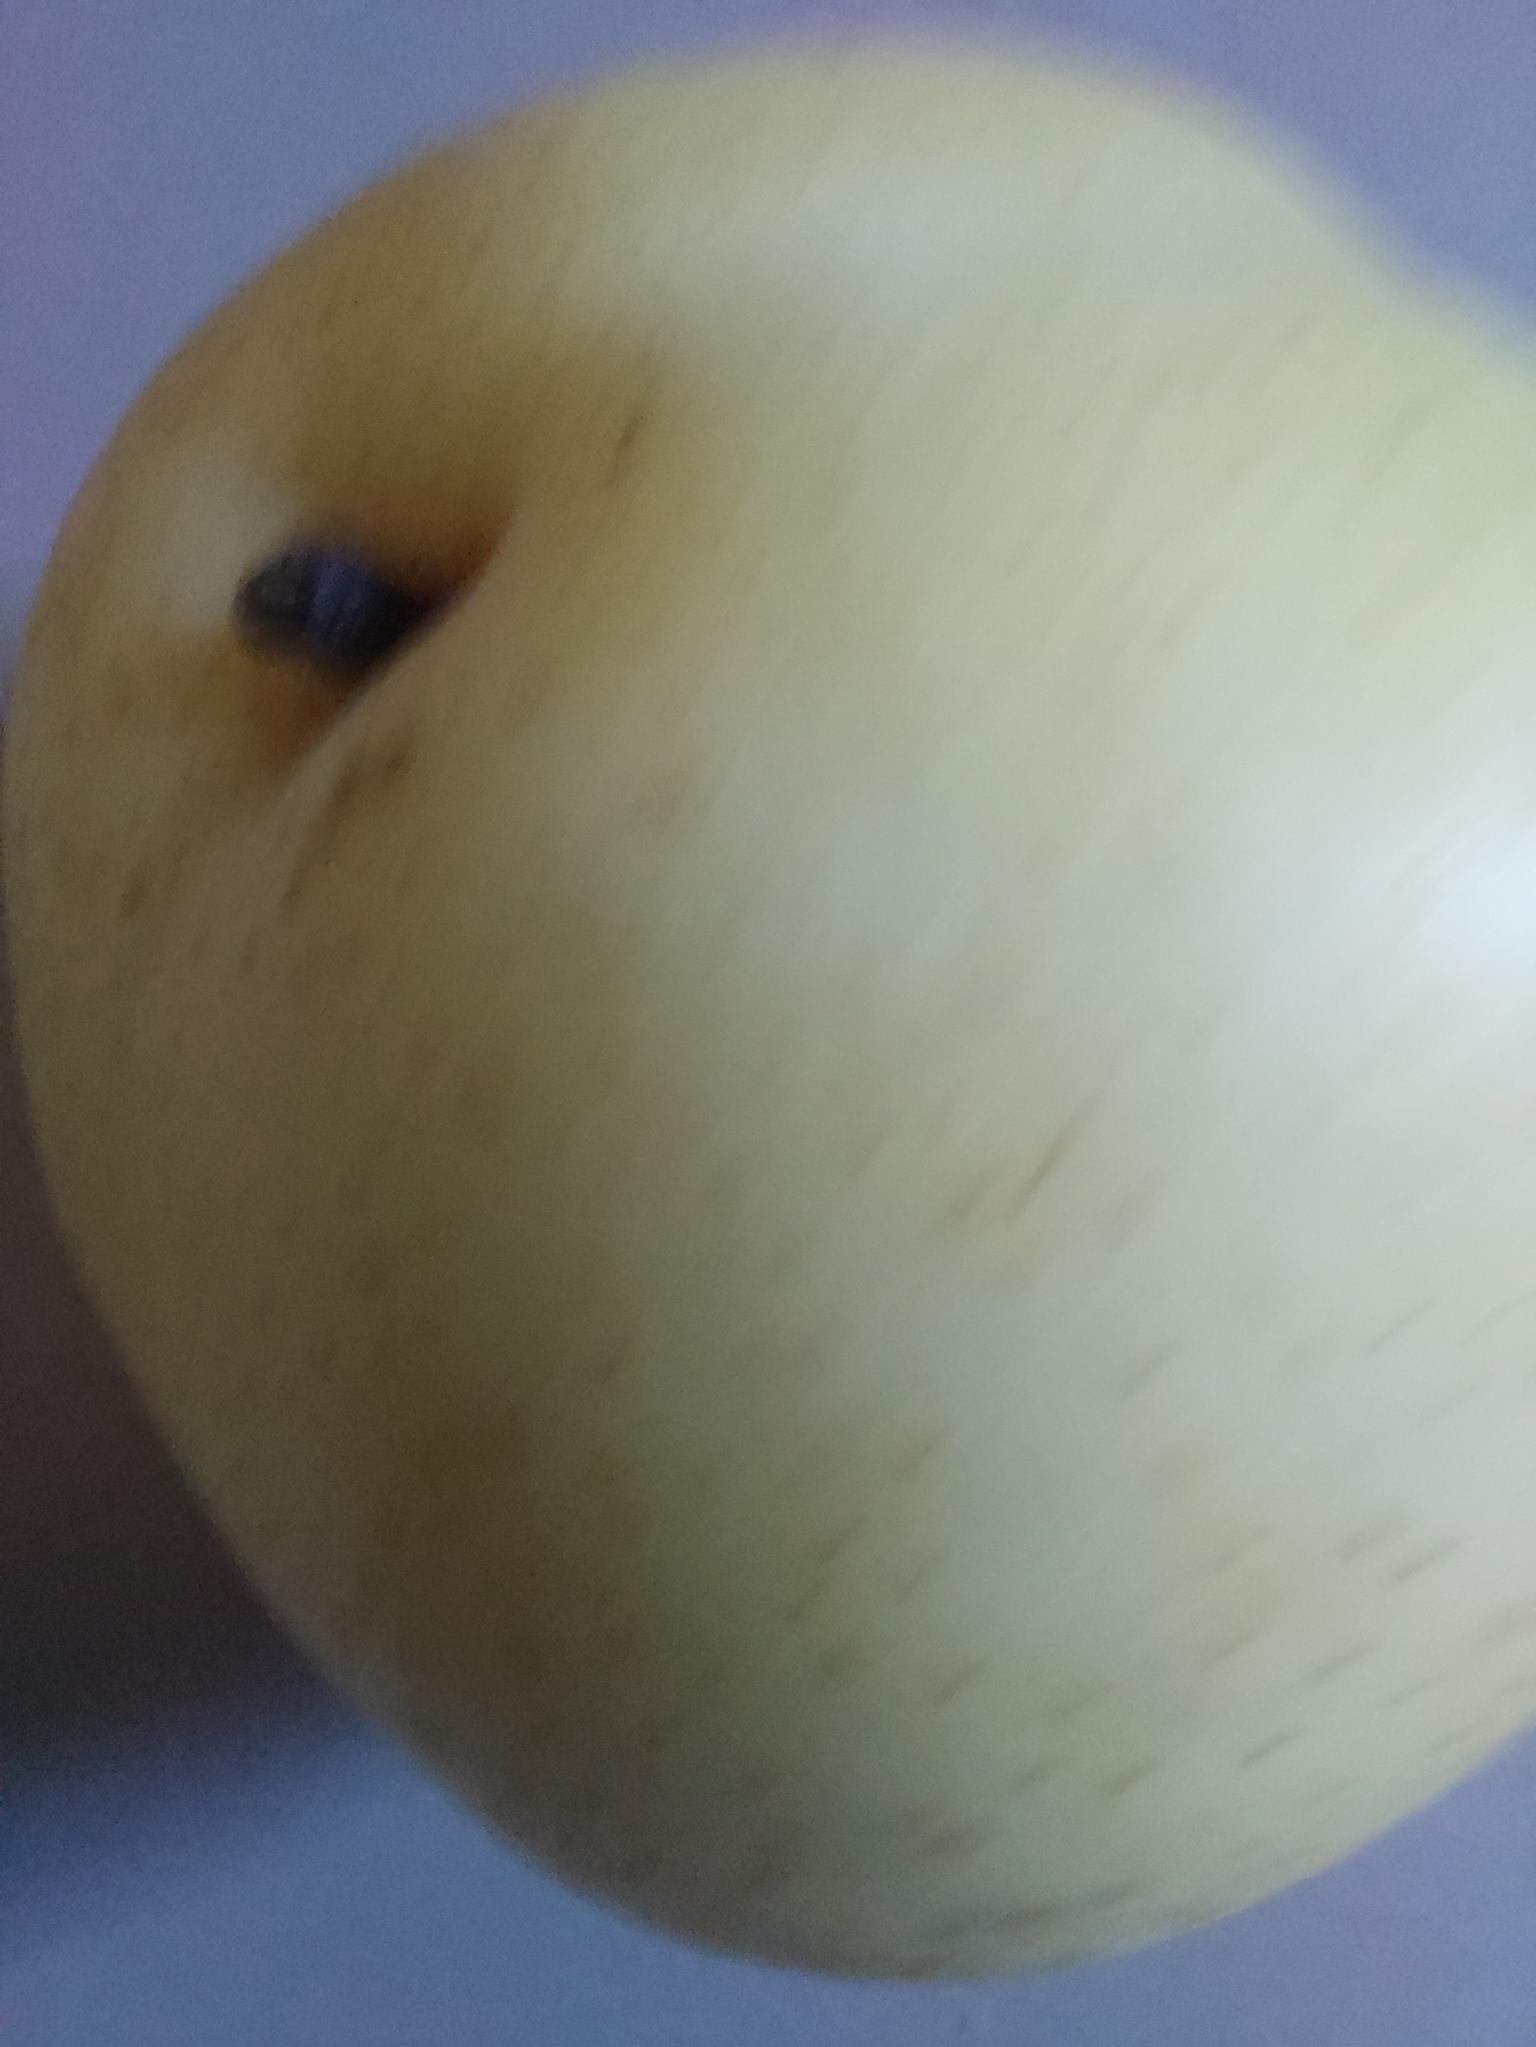Good Pear: (3, 37, 1536, 1973)
